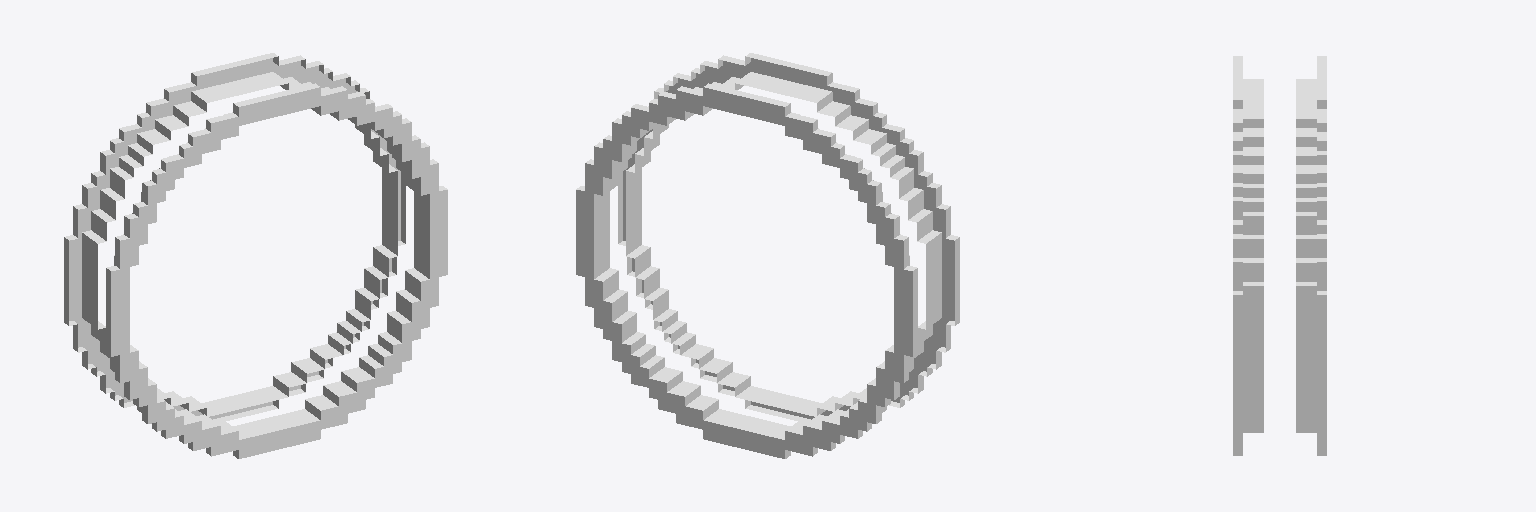
3 views of the same model, side by side, from view 1: azimuth 30°, elevation 25°; view 2: azimuth 150°, elevation 25°; view 3: azimuth 270°, elevation 25° (orthographic).
Bounding box in the file's own units: 43 × 43 × 9.
Materials: 1 (1 with a texture image).